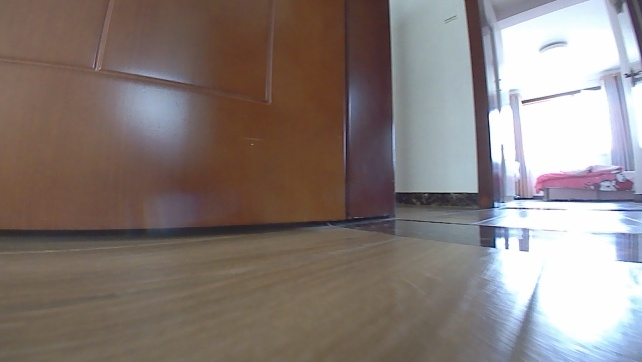bed: (533, 162, 641, 203)
